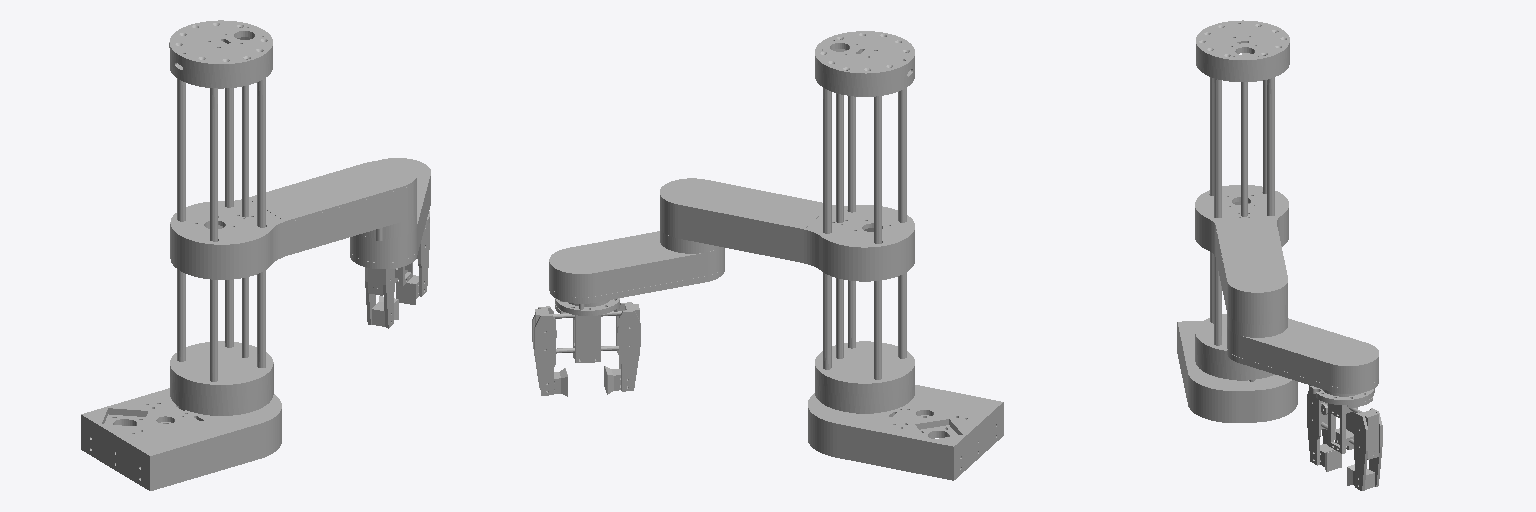
robot.urdf — urdf_to_sdf_gazebo:
<?xml version="1.0" ?>
<robot name="urdf_to_sdf_gazebo" xmlns:xacro="http://www.ros.org/wiki/xacro">

  <!-- Material definitions -->
  <material name="silver">
    <color rgba="0.75 0.75 0.75 1.0"/>
  </material>

<!-- <xacro:include filename="$(find scare_description_robot)/urdf/materials.xacro" />
<xacro:include filename="$(find scare_description_robot)/urdf/urdf_to_sdf_gazebo.trans" />
<xacro:include filename="$(find scare_description_robot)/urdf/urdf_to_sdf_gazebo.gazebo" /> -->
<link name="base_link">
  <inertial>
    <origin xyz="-0.0070117442454045035 -0.004059755672044273 0.01853626945061938" rpy="0 0 0"/>
    <mass value="3.938894865418581"/>
    <inertia ixx="0.009172" iyy="0.018106" izz="0.026037" ixy="-0.000742" iyz="3.6e-05" ixz="-0.000108"/>
  </inertial>
  <visual>
    <origin xyz="0 0 0" rpy="0 0 0"/>
    <geometry>
      <mesh filename="package://scara_robot_cpp_pkg/meshes/base_link.stl" scale="0.001 0.001 0.001"/>
    </geometry>
    <material name="silver"/>
  </visual>
  <collision>
    <origin xyz="0 0 0" rpy="0 0 0"/>
    <geometry>
      <mesh filename="package://scara_robot_cpp_pkg/meshes/base_link.stl" scale="0.001 0.001 0.001"/>
    </geometry>
  </collision>
</link>

<link name="gripper_handleftlink_1">
  <inertial>
    <origin xyz="-0.010868150575173707 -0.008378638812419237 -0.046602806658064974" rpy="0 0 0"/>
    <mass value="0.36256322250397477"/>
    <inertia ixx="0.000417" iyy="0.000417" izz="5.8e-05" ixy="-4e-06" iyz="-3.8e-05" ixz="-4.7e-05"/>
  </inertial>
  <visual>
    <origin xyz="-0.400195 -0.16626 -0.128702" rpy="0 0 0"/>
    <geometry>
      <mesh filename="package://scara_robot_cpp_pkg/meshes/gripper_handleftlink_1.stl" scale="0.001 0.001 0.001"/>
    </geometry>
    <material name="silver"/>
  </visual>
  <collision>
    <origin xyz="-0.400195 -0.16626 -0.128702" rpy="0 0 0"/>
    <geometry>
      <mesh filename="package://scara_robot_cpp_pkg/meshes/gripper_handleftlink_1.stl" scale="0.001 0.001 0.001"/>
    </geometry>
  </collision>
</link>

<link name="gripper_mechanismslider_link_1">
  <inertial>
    <origin xyz="0.012024165264874431 0.009150823772680894 -0.04620580836729517" rpy="0 0 0"/>
    <mass value="0.3625920933827462"/>
    <inertia ixx="0.000411" iyy="0.000413" izz="6.1e-05" ixy="-6e-06" iyz="4.1e-05" ixz="5.3e-05"/>
  </inertial>
  <visual>
    <origin xyz="-0.299785 -0.09181 -0.128702" rpy="0 0 0"/>
    <geometry>
      <mesh filename="package://scara_robot_cpp_pkg/meshes/gripper_mechanismslider_link_1.stl" scale="0.001 0.001 0.001"/>
    </geometry>
    <material name="silver"/>
  </visual>
  <collision>
    <origin xyz="-0.299785 -0.09181 -0.128702" rpy="0 0 0"/>
    <geometry>
      <mesh filename="package://scara_robot_cpp_pkg/meshes/gripper_mechanismslider_link_1.stl" scale="0.001 0.001 0.001"/>
    </geometry>
  </collision>
</link>

<link name="gripper_rail_6mm_bottom_link_1">
  <inertial>
    <origin xyz="0.00022857868610060006 0.0004476121226026364 -0.029491948728123968" rpy="0 0 0"/>
    <mass value="0.6641305311549246"/>
    <inertia ixx="0.000618" iyy="0.000653" izz="0.000363" ixy="-5.3e-05" iyz="-3e-06" ixz="5e-06"/>
  </inertial>
  <visual>
    <origin xyz="-0.349498 -0.128931 -0.162637" rpy="0 0 0"/>
    <geometry>
      <mesh filename="package://scara_robot_cpp_pkg/meshes/gripper_rail_6mm_bottom_link_1.stl" scale="0.001 0.001 0.001"/>
    </geometry>
    <material name="silver"/>
  </visual>
  <collision>
    <origin xyz="-0.349498 -0.128931 -0.162637" rpy="0 0 0"/>
    <geometry>
      <mesh filename="package://scara_robot_cpp_pkg/meshes/gripper_rail_6mm_bottom_link_1.stl" scale="0.001 0.001 0.001"/>
    </geometry>
  </collision>
</link>

<link name="arm_two_cover_link_1">
  <inertial>
    <origin xyz="0.035241807533543335 0.04796212281162526 -0.03376987123810021" rpy="0 0 0"/>
    <mass value="2.511589379326445"/>
    <inertia ixx="0.007821" iyy="0.005245" izz="0.011615" ixy="-0.004163" iyz="0.000509" ixz="0.000373"/>
  </inertial>
  <visual>
    <origin xyz="-0.268734 -0.019208 -0.22035" rpy="0 0 0"/>
    <geometry>
      <mesh filename="package://scara_robot_cpp_pkg/meshes/arm_two_cover_link_1.stl" scale="0.001 0.001 0.001"/>
    </geometry>
    <material name="silver"/>
  </visual>
  <collision>
    <origin xyz="-0.268734 -0.019208 -0.22035" rpy="0 0 0"/>
    <geometry>
      <mesh filename="package://scara_robot_cpp_pkg/meshes/arm_two_cover_link_1.stl" scale="0.001 0.001 0.001"/>
    </geometry>
  </collision>
</link>

<link name="z-axis_top_plate_link_1">
  <inertial>
    <origin xyz="0.0008602439988536284 0.0002178103000136028 0.18808008938577278" rpy="0 0 0"/>
    <mass value="4.175380318770853"/>
    <inertia ixx="0.146443" iyy="0.146523" izz="0.008141" ixy="-1.4e-05" iyz="-0.000149" ixz="9.2e-05"/>
  </inertial>
  <visual>
    <origin xyz="-0.041226 9.1e-05 -0.033561" rpy="0 0 0"/>
    <geometry>
      <mesh filename="package://scara_robot_cpp_pkg/meshes/z-axis_top_plate_link_1.stl" scale="0.001 0.001 0.001"/>
    </geometry>
    <material name="silver"/>
  </visual>
  <collision>
    <origin xyz="-0.041226 9.1e-05 -0.033561" rpy="0 0 0"/>
    <geometry>
      <mesh filename="package://scara_robot_cpp_pkg/meshes/z-axis_top_plate_link_1.stl" scale="0.001 0.001 0.001"/>
    </geometry>
  </collision>
</link>

<link name="arm_cover_link_1">
  <inertial>
    <origin xyz="0.06134439992643813 0.0054249821664409895 -0.022471905199493963" rpy="0 0 0"/>
    <mass value="3.3320688978919453"/>
    <inertia ixx="0.003993" iyy="0.02822" izz="0.030522" ixy="-0.002139" iyz="0.000107" ixz="0.001225"/>
  </inertial>
  <visual>
    <origin xyz="-0.074476 -0.002213 -0.26485" rpy="0 0 0"/>
    <geometry>
      <mesh filename="package://scara_robot_cpp_pkg/meshes/arm_cover_link_1.stl" scale="0.001 0.001 0.001"/>
    </geometry>
    <material name="silver"/>
  </visual>
  <collision>
    <origin xyz="-0.074476 -0.002213 -0.26485" rpy="0 0 0"/>
    <geometry>
      <mesh filename="package://scara_robot_cpp_pkg/meshes/arm_cover_link_1.stl" scale="0.001 0.001 0.001"/>
    </geometry>
  </collision>
</link>

<joint name="Slider 4" type="prismatic">
  <origin xyz="0.050697 0.037329 -0.033935" rpy="0 0 0"/>
  <parent link="gripper_rail_6mm_bottom_link_1"/>
  <child link="gripper_handleftlink_1"/>
  <axis xyz="0.803283 0.595598 0.0"/>
  <limit upper="0.0" lower="-0.015" effort="100" velocity="100"/>
</joint>

<joint name="Slider 5" type="prismatic">
  <origin xyz="-0.049713 -0.037121 -0.033935" rpy="0 0 0"/>
  <parent link="gripper_rail_6mm_bottom_link_1"/>
  <child link="gripper_mechanismslider_link_1"/>
  <axis xyz="-0.803283 -0.595598 -0.0"/>
  <limit upper="0.0" lower="-0.019" effort="100" velocity="100"/>
</joint>

<joint name="Revolute 7" type="revolute">
  <origin xyz="0.080764 0.109723 -0.057713" rpy="0 0 0"/>
  <parent link="arm_two_cover_link_1"/>
  <child link="gripper_rail_6mm_bottom_link_1"/>
  <axis xyz="-0.0 0.0 1.0"/>
  <limit upper="2.007129" lower="-0.959931" effort="100" velocity="100"/>
</joint>

<joint name="Revolute 8" type="revolute">
  <origin xyz="0.194258 0.016995 -0.0445" rpy="0 0 0"/>
  <parent link="arm_cover_link_1"/>
  <child link="arm_two_cover_link_1"/>
  <axis xyz="0.0 0.0 1.0"/>
  <limit upper="1.570796" lower="-3.316126" effort="100" velocity="100"/>
</joint>

<joint name="Revolute 10" type="revolute">
  <origin xyz="0.041226 -9.1e-05 0.033561" rpy="0 0 0"/>
  <parent link="base_link"/>
  <child link="z-axis_top_plate_link_1"/>
  <axis xyz="0.0 0.0 1.0"/>
  <limit upper="2.007129" lower="-2.356194" effort="100" velocity="100"/>
</joint>

<joint name="Slider 11" type="prismatic">
  <origin xyz="0.03325 0.002304 0.231289" rpy="0 0 0"/>
  <parent link="z-axis_top_plate_link_1"/>
  <child link="arm_cover_link_1"/>
  <axis xyz="0.0 0.0 -1.0"/>
  <limit upper="0.1" lower="-0.13" effort="100" velocity="100"/>
</joint>

</robot>

--- Facts derived from the render (not from the file) ---
Views: 3 orthographic renders of the robot side by side, from view 1: azimuth 30°, elevation 25°; view 2: azimuth 150°, elevation 25°; view 3: azimuth 270°, elevation 25°.
Robot: urdf_to_sdf_gazebo — 7 links, 6 joints (3 revolute, 3 prismatic); root link base_link; default pose: every joint at zero.
Links seen in each view (by area): view 1: z-axis_top_plate_link_1, arm_cover_link_1, base_link, arm_two_cover_link_1, gripper_mechanismslider_link_1, gripper_handleftlink_1; view 2: z-axis_top_plate_link_1, arm_cover_link_1, base_link, arm_two_cover_link_1, gripper_rail_6mm_bottom_link_1, gripper_mechanismslider_link_1, gripper_handleftlink_1; view 3: z-axis_top_plate_link_1, arm_cover_link_1, arm_two_cover_link_1, base_link, gripper_handleftlink_1, gripper_rail_6mm_bottom_link_1, gripper_mechanismslider_link_1.
Boxes of the visible links, x1=… form: z-axis_top_plate_link_1: x1=169, y1=20, x2=273, y2=415; arm_cover_link_1: x1=170, y1=161, x2=416, y2=279; base_link: x1=81, y1=388, x2=281, y2=490; arm_two_cover_link_1: x1=350, y1=158, x2=430, y2=268; gripper_mechanismslider_link_1: x1=365, y1=267, x2=398, y2=328; gripper_handleftlink_1: x1=396, y1=223, x2=429, y2=304; z-axis_top_plate_link_1: x1=815, y1=31, x2=914, y2=413; arm_cover_link_1: x1=660, y1=178, x2=914, y2=281; base_link: x1=808, y1=385, x2=1003, y2=480; arm_two_cover_link_1: x1=549, y1=229, x2=724, y2=303; gripper_rail_6mm_bottom_link_1: x1=535, y1=298, x2=625, y2=362; gripper_mechanismslider_link_1: x1=604, y1=302, x2=640, y2=394; gripper_handleftlink_1: x1=532, y1=306, x2=567, y2=396; z-axis_top_plate_link_1: x1=1195, y1=20, x2=1289, y2=381; arm_cover_link_1: x1=1195, y1=185, x2=1288, y2=324; arm_two_cover_link_1: x1=1227, y1=314, x2=1378, y2=393; base_link: x1=1177, y1=321, x2=1297, y2=422; gripper_handleftlink_1: x1=1347, y1=408, x2=1382, y2=490; gripper_rail_6mm_bottom_link_1: x1=1313, y1=386, x2=1374, y2=455; gripper_mechanismslider_link_1: x1=1307, y1=385, x2=1341, y2=471.
Bounding box of the posed robot: 0.5241 × 0.261 × 0.5064 m (x, y, z).
Meshes: 7 distinct files referenced, 7 mesh visuals loaded (7 binary STL).